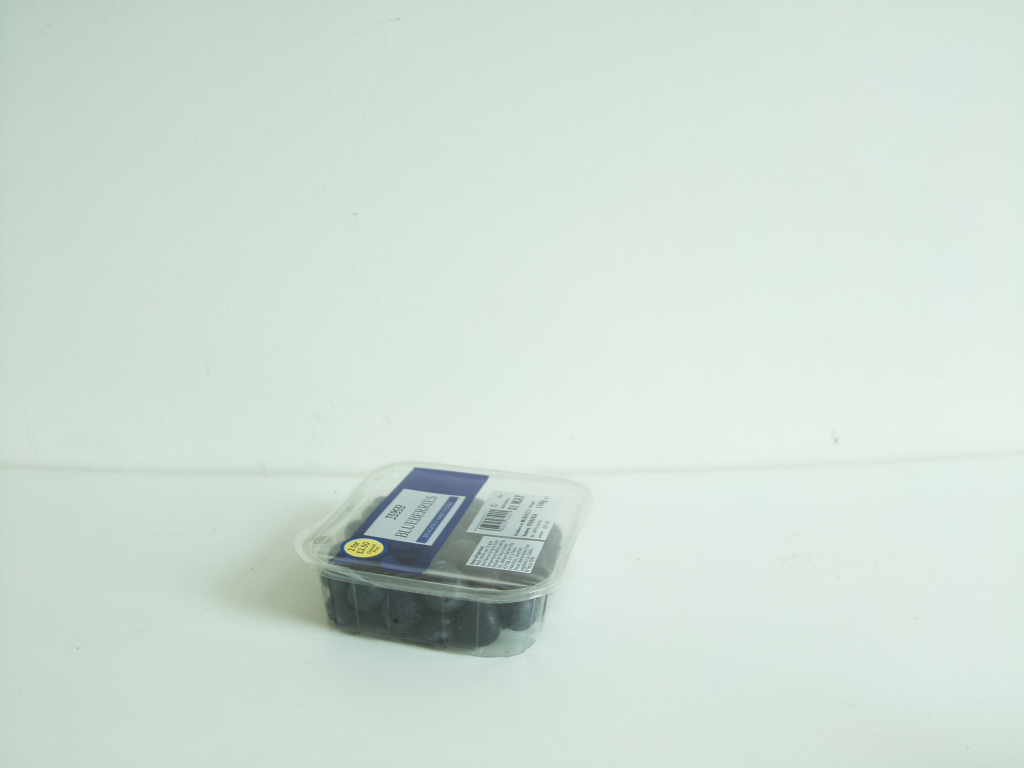soft-fruit: (298, 461, 591, 661)
